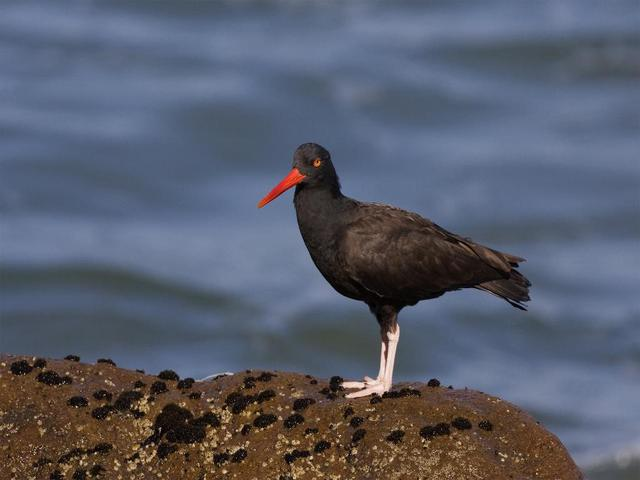Bird: (264, 123, 546, 403)
